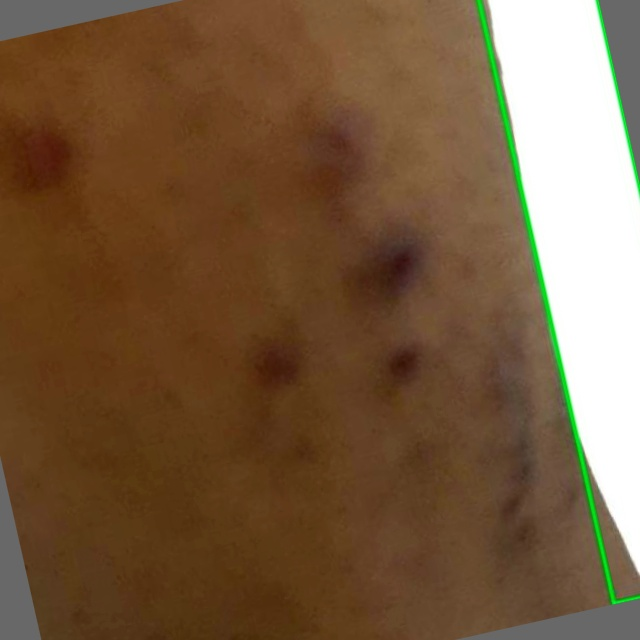Contact Dermatitis: (479, 0, 639, 603)
